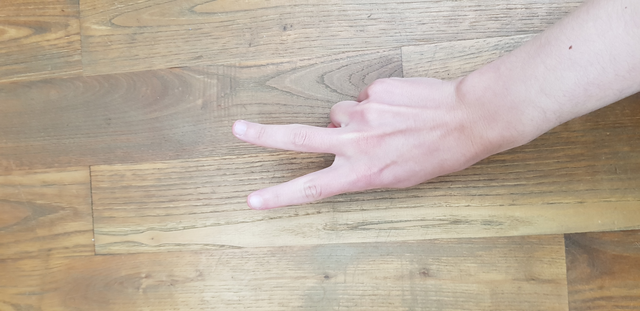Scissors: (199, 48, 500, 228)
